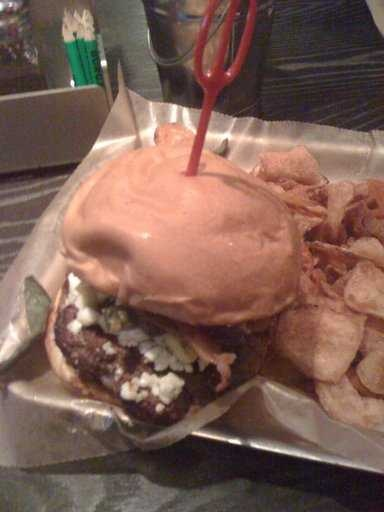hamburger: (39, 124, 271, 447)
